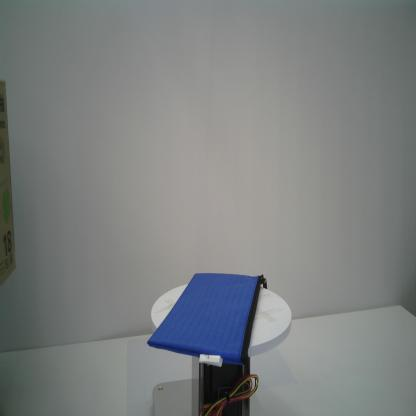Stationery: (147, 272, 267, 367)
